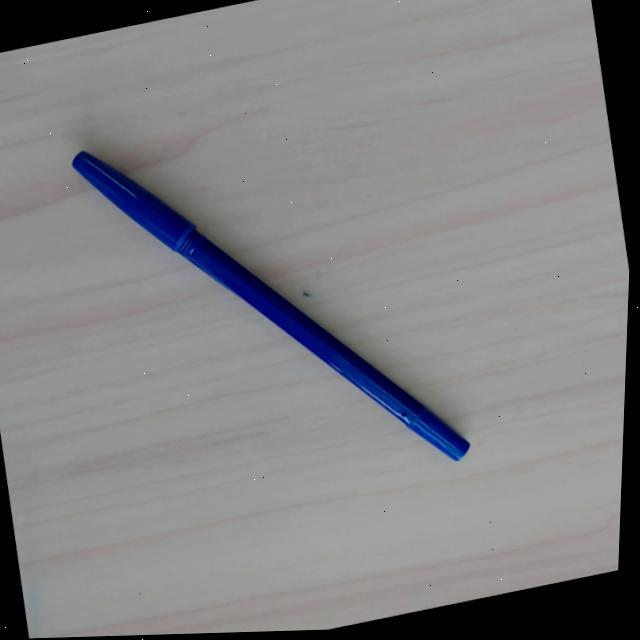Pulpen-Biru: (65, 139, 472, 469)
